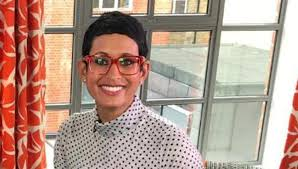indian_female: (72, 9, 172, 120)
